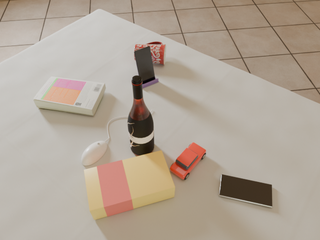book: (33, 77, 106, 116)
bottle: (128, 75, 154, 156)
box: (84, 151, 175, 220)
cup: (134, 42, 166, 65)
mouse: (81, 141, 107, 165)
phone: (219, 174, 272, 207), (134, 46, 155, 85)
toy_car: (170, 142, 206, 180)
